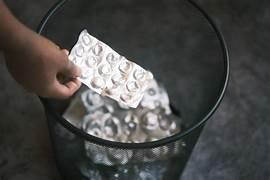pill_Strip: (69, 30, 152, 107)
